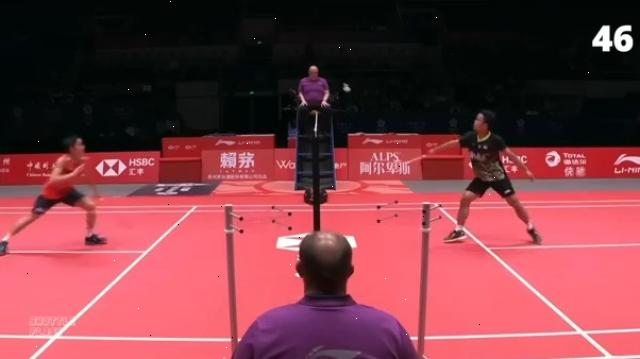Shuttlecock: (340, 80, 354, 96)
